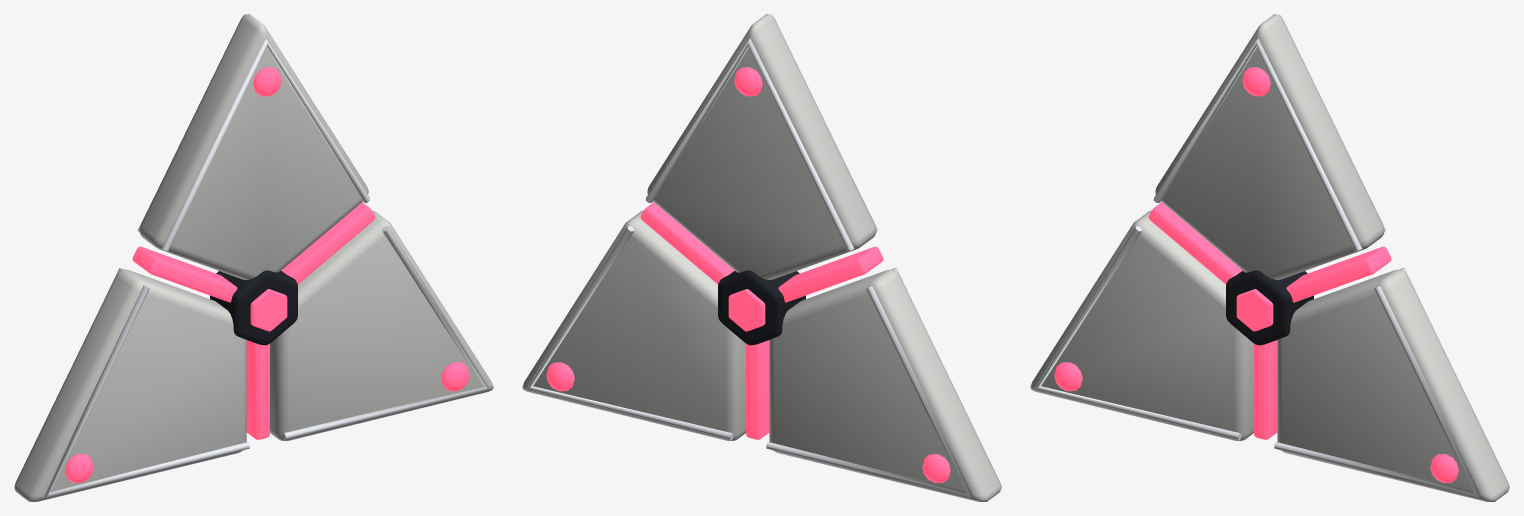
Rendered from splitter.glb.
3 views of the same model, side by side, from view 1: azimuth 30°, elevation 25°; view 2: azimuth 150°, elevation 25°; view 3: azimuth 330°, elevation 25° (orthographic).
Parts seen in each view (by area): view 1: Shard1, Shard0, Shard2, Hub, Trim1+1, Trim0+1, Trim2+1, Crack2, Crack1, Crack0, HubCap+1, Tip0+1 (+2 smaller); view 2: Shard1, Shard0, Shard2, Hub, Trim1-1, Trim0-1, Trim2-1, Crack2, Crack1, Crack0, HubCap-1, Tip0-1 (+2 smaller); view 3: Shard2, Shard0, Shard1, Hub, Trim2+1, Trim0+1, Trim1+1, Crack1, Crack2, Crack0, HubCap+1, Tip0+1 (+2 smaller).
Part boxes in pixels (x1,y1,x2,y2): Shard1: (14,269,246,501); Shard0: (139,14,368,279); Shard2: (270,210,493,441); Hub: (210,270,297,345); Trim1+1: (42,285,249,497); Trim0+1: (161,38,370,251); Trim2+1: (282,226,488,440); Crack2: (132,246,237,302); Crack1: (281,202,375,284); Crack0: (246,340,269,439); HubCap+1: (250,289,287,331); Tip0+1: (253,67,281,96); Shard1: (769,269,1001,501); Shard0: (647,14,876,279); Shard2: (522,210,745,441); Hub: (718,270,805,345); Trim1-1: (766,285,973,497); Trim0-1: (645,38,854,251); Trim2-1: (527,226,733,440); Crack2: (778,246,883,302); Crack1: (640,202,734,284); Crack0: (746,340,769,439); HubCap-1: (728,289,765,331); Tip0-1: (734,67,762,96); Shard2: (1277,269,1509,501); Shard0: (1155,14,1384,279); Shard1: (1030,210,1253,441); Hub: (1226,270,1313,345); Trim2+1: (1274,285,1481,497); Trim0+1: (1153,38,1362,251); Trim1+1: (1035,226,1241,440); Crack1: (1286,246,1391,302); Crack2: (1148,202,1242,284); Crack0: (1254,340,1277,439); HubCap+1: (1236,289,1273,331); Tip0+1: (1242,67,1270,96).
Bounding box in the file's own units: 0.8063 × 0.6997 × 0.1088.
